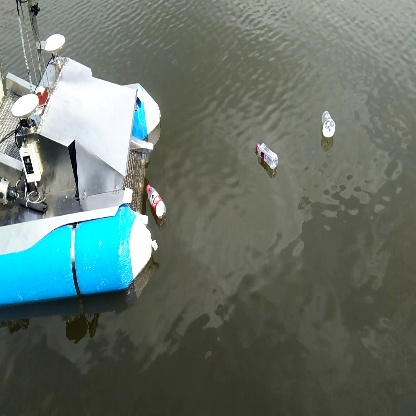bottle: (141, 182, 172, 220), (253, 140, 281, 173), (319, 108, 338, 146)
